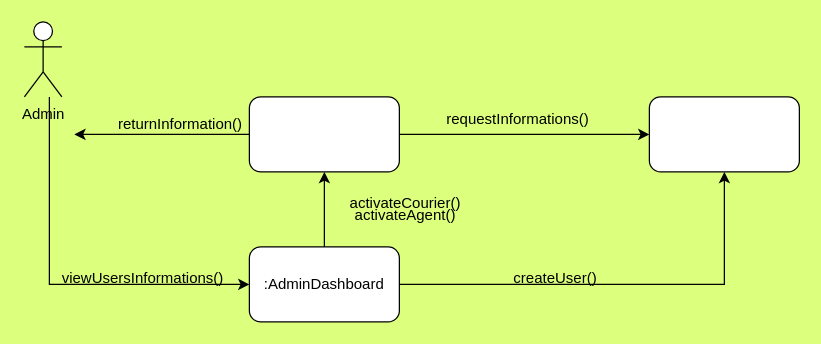
Image size: 821x344. Some labels were removed from this diagram. The centre of each missing label's shape, as x and y in pixels:
:Database: point 723,134
:Server: point 323,134
